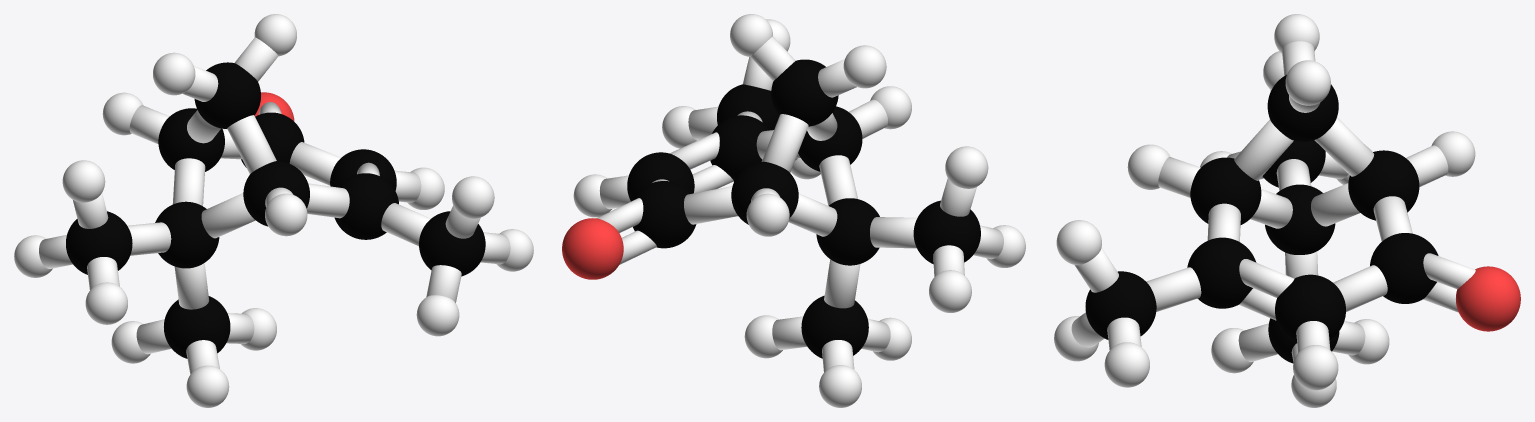
The picture shows the model from 3 angles, left to right: view 1: azimuth 30°, elevation 25°; view 2: azimuth 150°, elevation 25°; view 3: azimuth 270°, elevation 25°; orthographic projection. The views are drawn at different scales.
Parts seen in each view (by area): view 1: molecule; view 2: molecule; view 3: molecule.
Boxes of the visible parts, x1,y1,x2,y2 form: molecule: [14, 14, 533, 407]; molecule: [562, 14, 1025, 407]; molecule: [1054, 14, 1520, 407].
Size of the model in its own units: 6.63 by 5.28 by 6.17.
